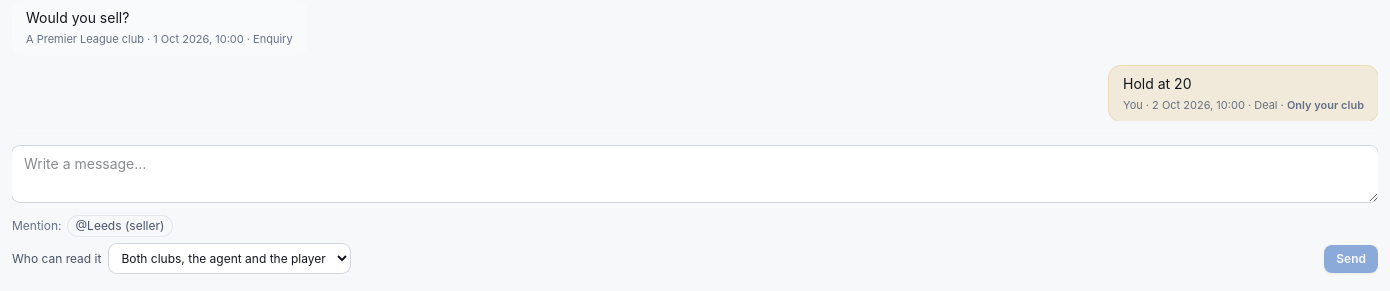
Scenario: ConversationPanel on a deal › mentions people only on messages everyone can read
The width and height of the screenshot is (1390, 291).
Expected: the text "Would you sell?" is shown, [26,9,129,26]
Click the button "@Leeds (seller)" at (120,226), box [68,216,172,236]
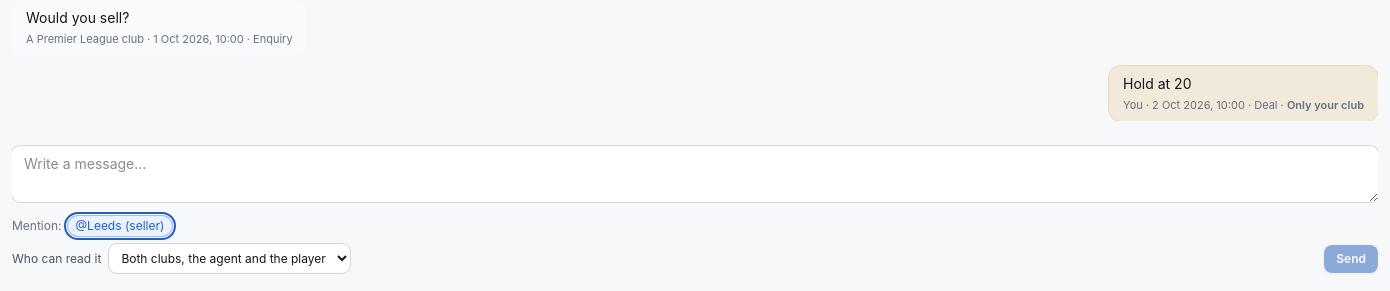
Type "Over to you" into the text box labelled "message" at (695,174), box [12,146,1378,202]
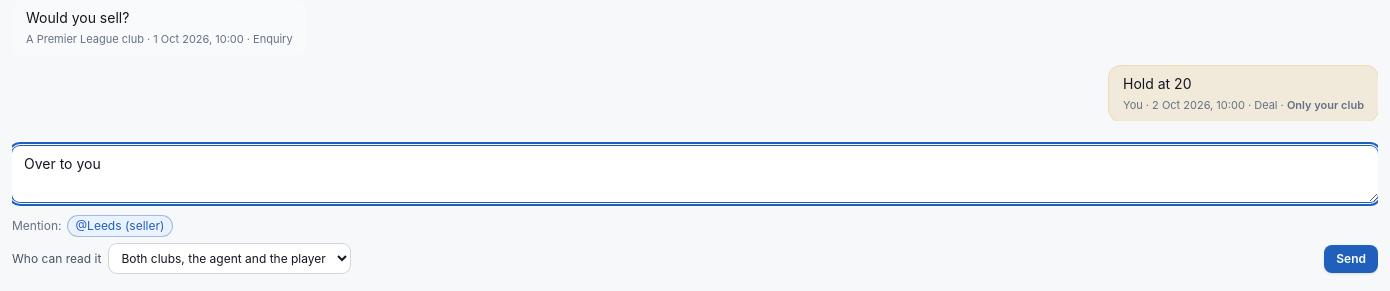
Click the button "Send" at (1351,259), box [1324,245,1378,273]
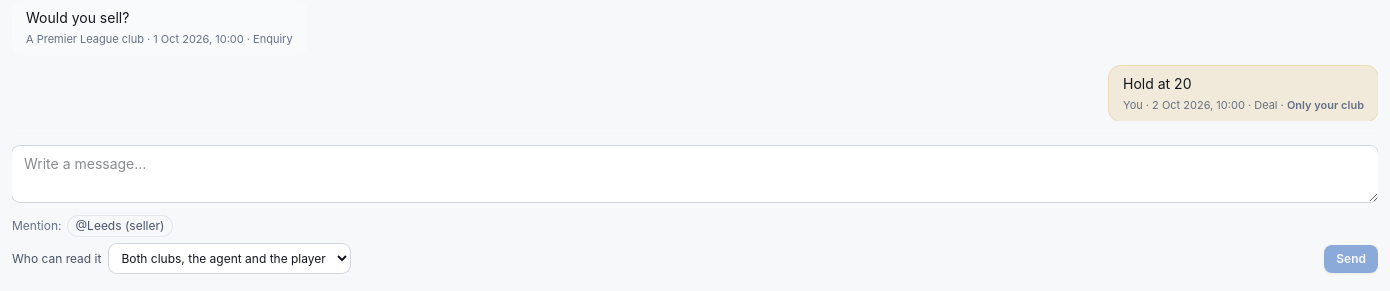
Select "Only your club" in the dropdown at (230,259), box [109,244,350,273]
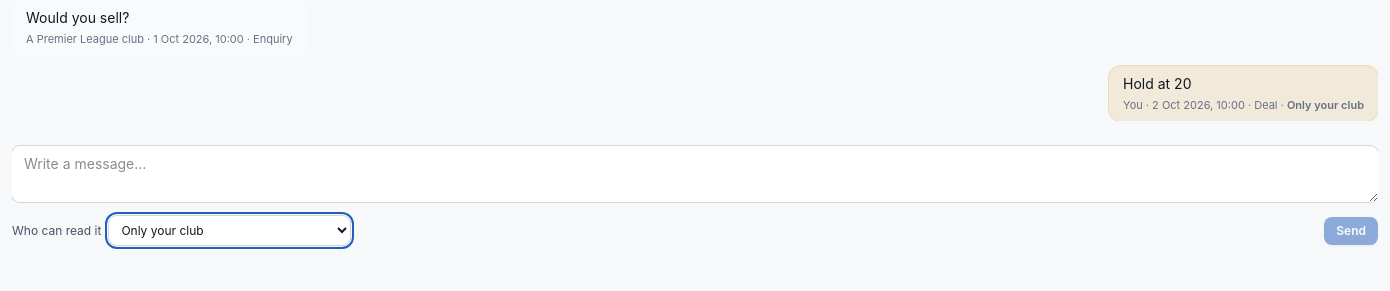
Result: the button "@Leeds (seller)" is gone
